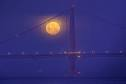moon: (44, 21, 61, 37)
